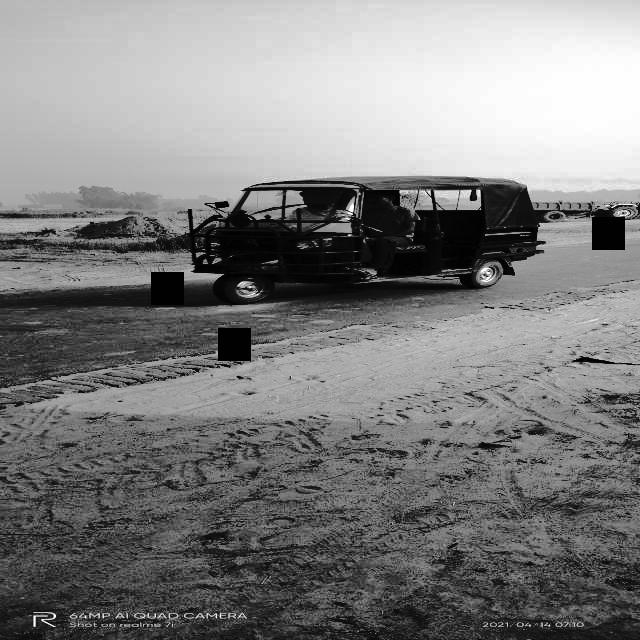Auto-Rickshaw: (175, 174, 547, 312)
